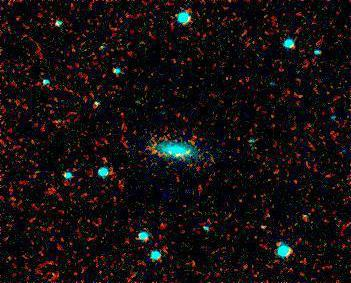star: (120, 88, 150, 118)
